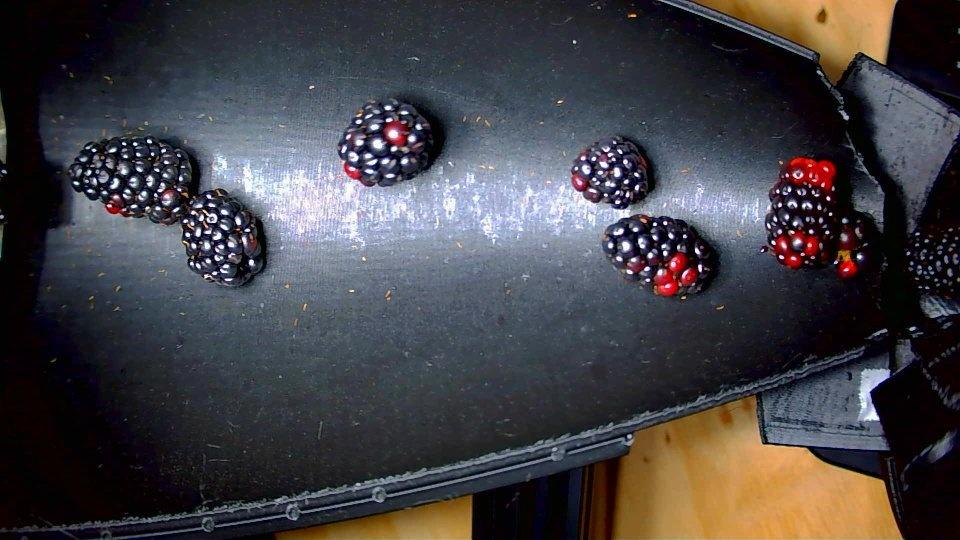berry: (68, 136, 192, 224), (601, 214, 716, 294), (336, 98, 433, 186), (180, 189, 265, 286), (765, 158, 839, 268), (571, 136, 650, 208), (906, 225, 959, 298), (834, 212, 880, 278)
